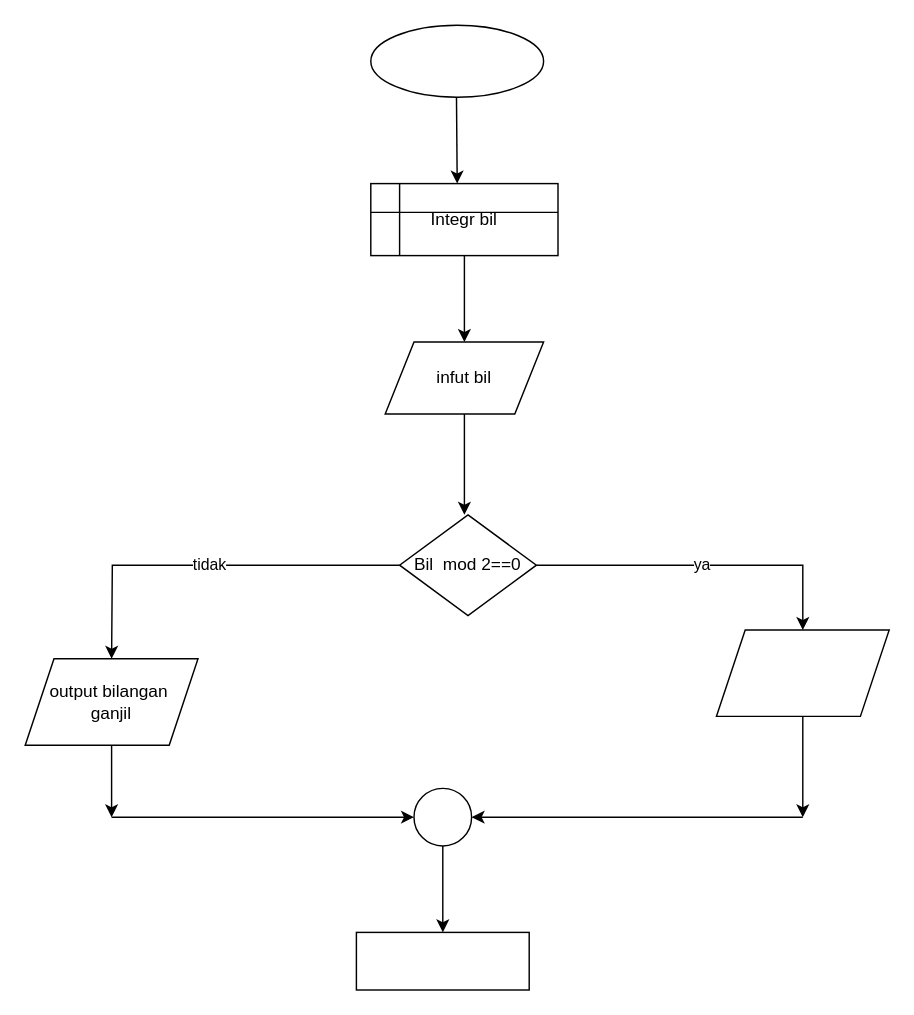
Some shapes in this 914 by 1015 pixel diagram are drawn without their labels. The shapes that lost their labels are listed below. From the top down, each one's box as (x1, y1, x2, y2) in pixels, then its label:
(369, 24, 544, 97): MULAI
(715, 629, 889, 716): output bilangan genap
